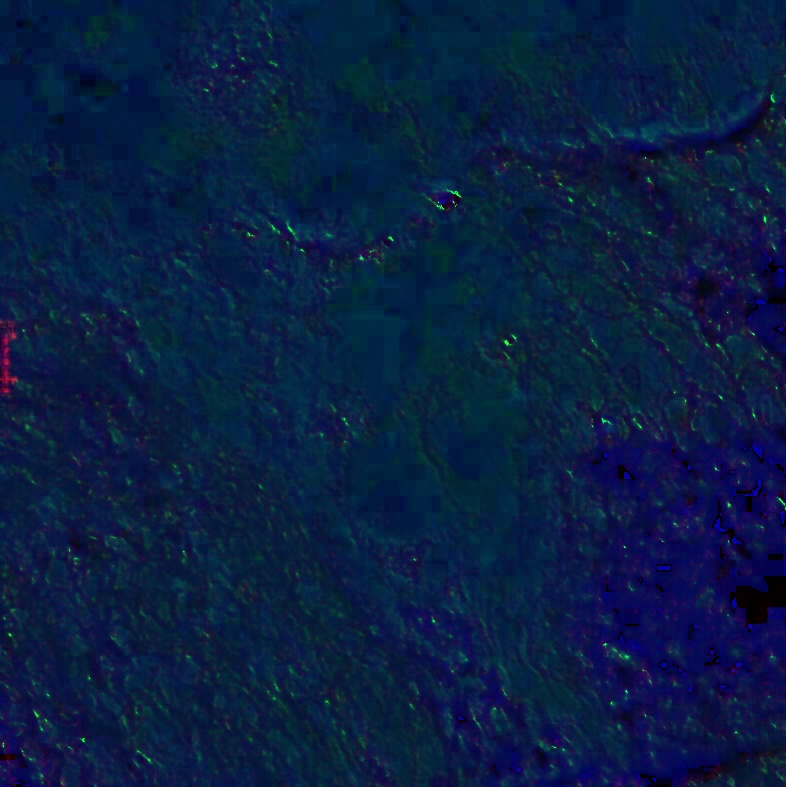rip_current: (225, 226, 656, 735)
